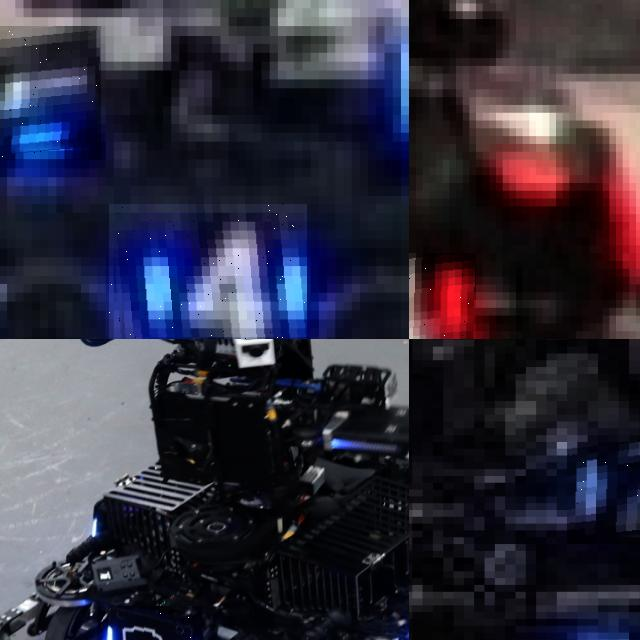B2: (567, 442, 640, 544)
B4: (109, 204, 306, 339), (0, 26, 101, 159)
Bs: (98, 605, 202, 640)
R4: (409, 253, 476, 339)
